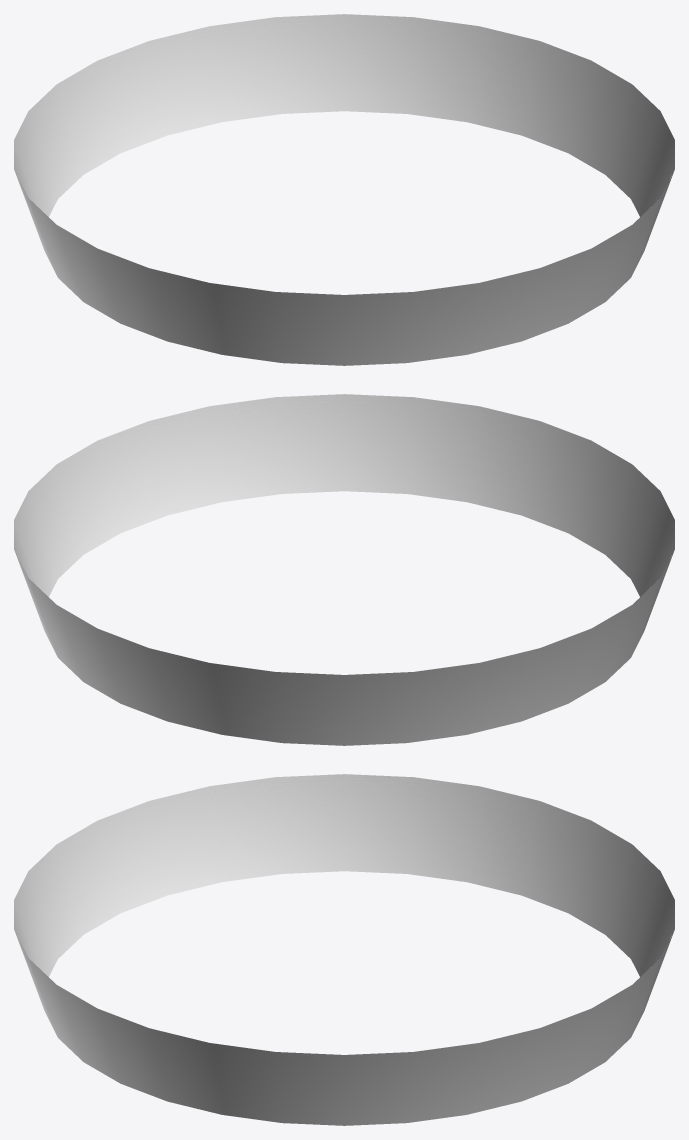
File: gradient.fbx
3 renders of one model, top to bottom at view 1: azimuth 30°, elevation 25°; view 2: azimuth 150°, elevation 25°; view 3: azimuth 270°, elevation 25°, orthographic.
Parts seen in each view (by area): view 1: gradient; view 2: gradient; view 3: gradient.
Part boxes in pixels (x1,y1,x2,y2): gradient: (14, 14, 674, 365); gradient: (14, 394, 674, 745); gradient: (14, 774, 674, 1125).
Bounding box in the file's own units: 644 × 89.78 × 640.
